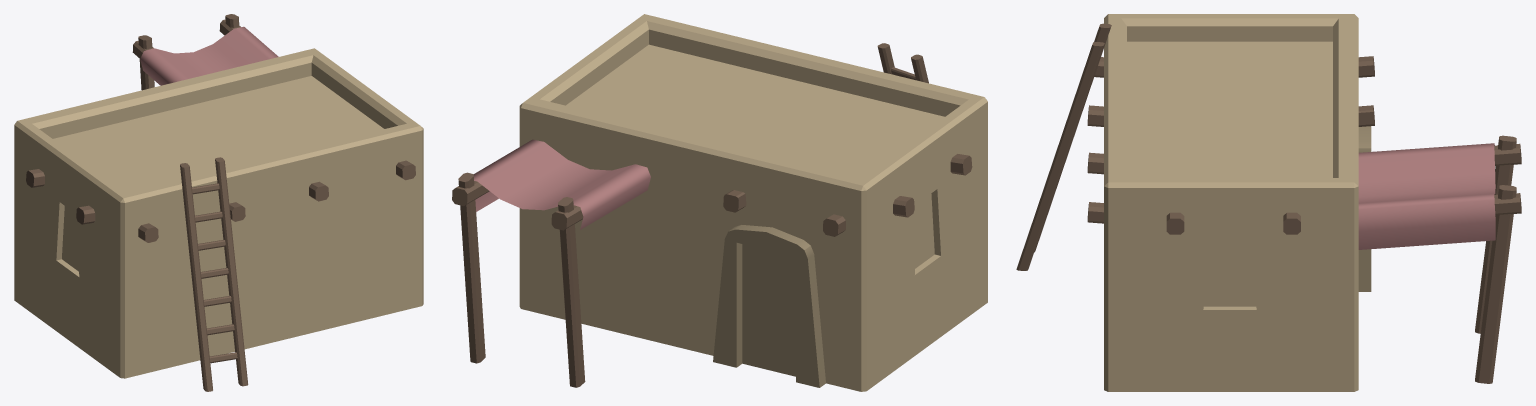
The model's file is Hut_01.fbx.
The picture shows the model from 3 angles, left to right: view 1: azimuth 30°, elevation 25°; view 2: azimuth 150°, elevation 25°; view 3: azimuth 270°, elevation 25°; orthographic projection. The views are drawn at different scales.
Parts seen in each view (by area): view 1: Hut_01; view 2: Hut_01; view 3: Hut_01.
Boxes of the visible parts, <box> form: Hut_01: <box>14,14,423,391</box>; Hut_01: <box>452,14,987,391</box>; Hut_01: <box>1016,14,1521,391</box>.
Bounding box in the file's own units: 3.23 × 1.88 × 3.73.
